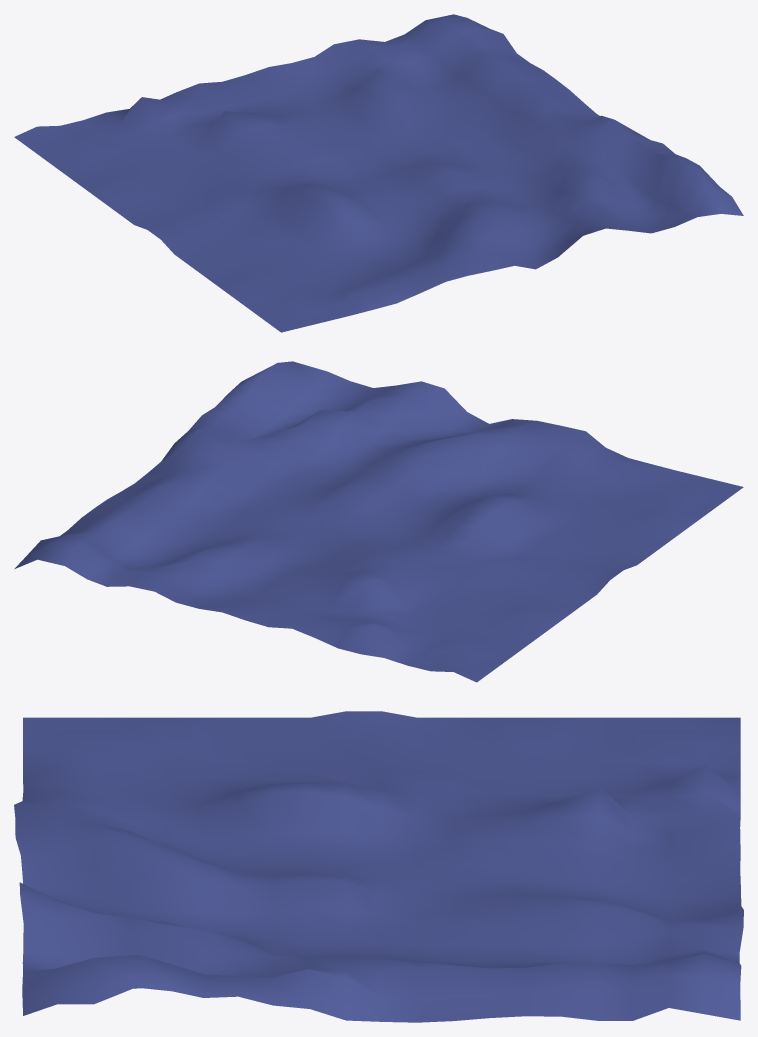
File: Water.fbx
3 renders of one model, top to bottom at view 1: azimuth 30°, elevation 25°; view 2: azimuth 150°, elevation 25°; view 3: azimuth 270°, elevation 25°, orthographic. The views are drawn at different scales.
Parts seen in each view (by area): view 1: Water; view 2: Water; view 3: Water.
Boxes of the visible parts, x1=… form: Water: x1=14, y1=14, x2=743, y2=332; Water: x1=14, y1=361, x2=743, y2=682; Water: x1=14, y1=711, x2=743, y2=1022.
Bounding box in the file's own units: 1004 × 82.45 × 1017.
